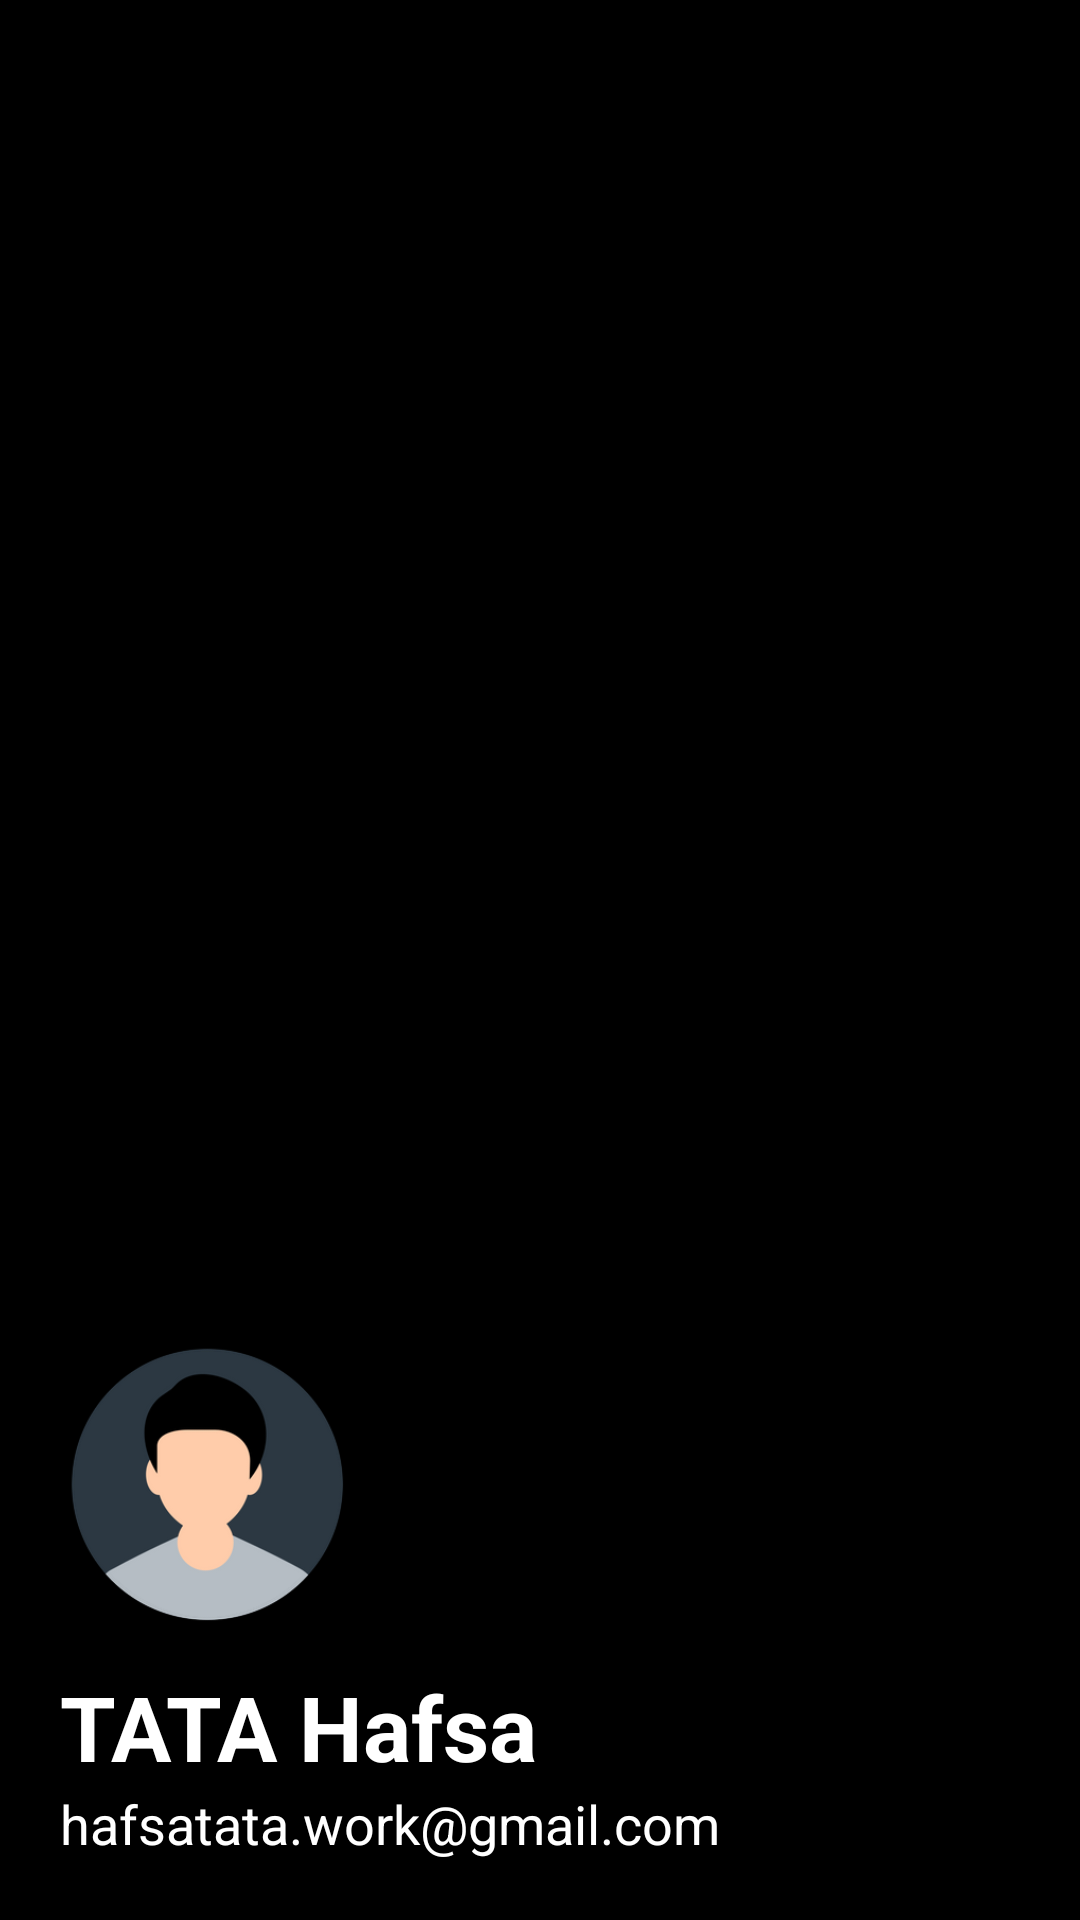

Screen size 1080×1920. Icon name, then its box in pixels as BBox(x1, y1, x2, y2):
userblack: BBox(72, 1349, 343, 1620)
